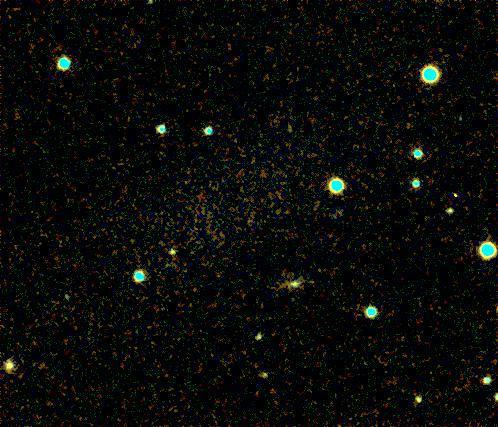star: (438, 178, 468, 208)
